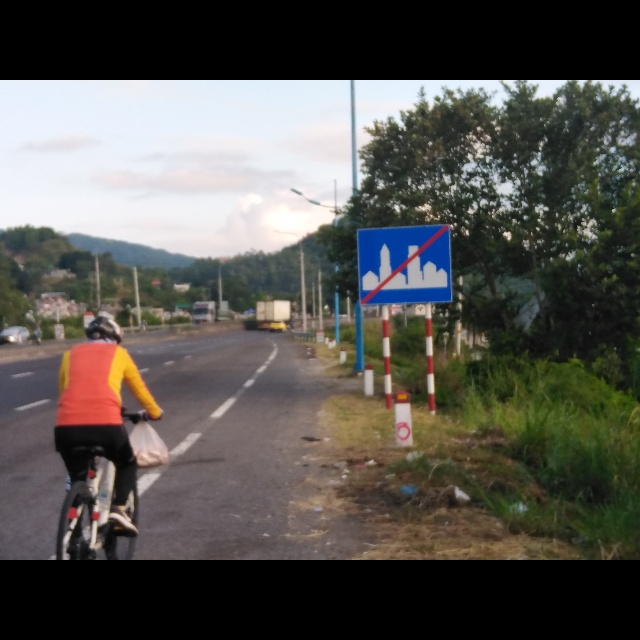Hết khu đông dân cư: (356, 226, 455, 303)
